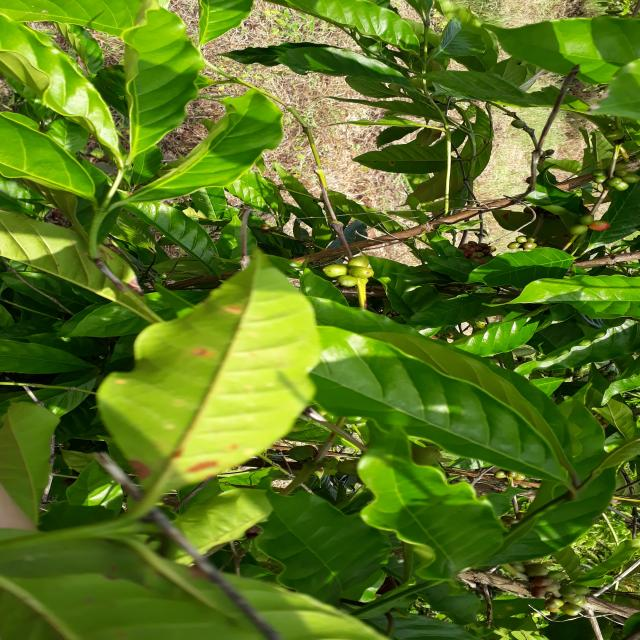Plaga-AranaRoja: (96, 253, 325, 509)
